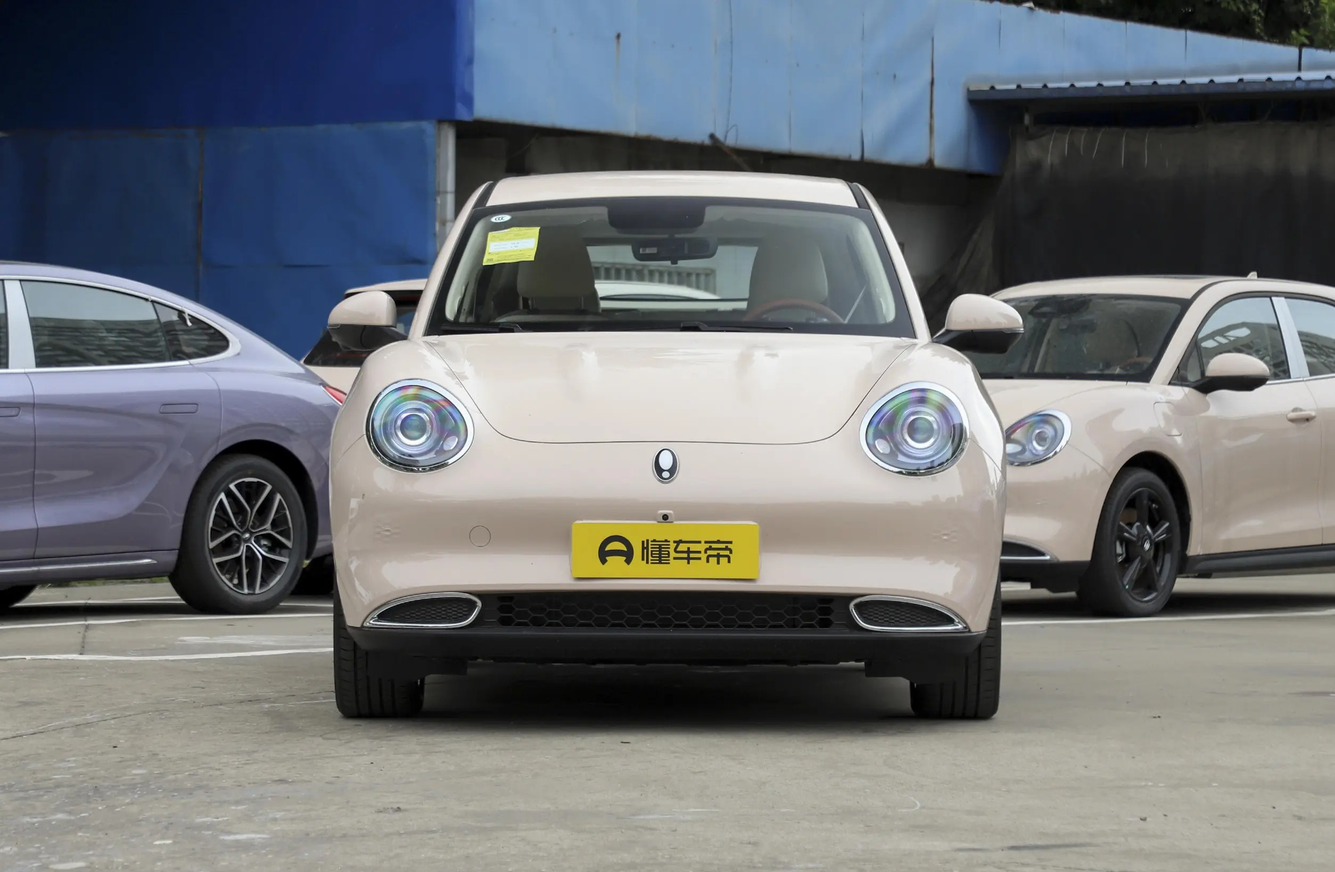ORA: (654, 448, 678, 482)
